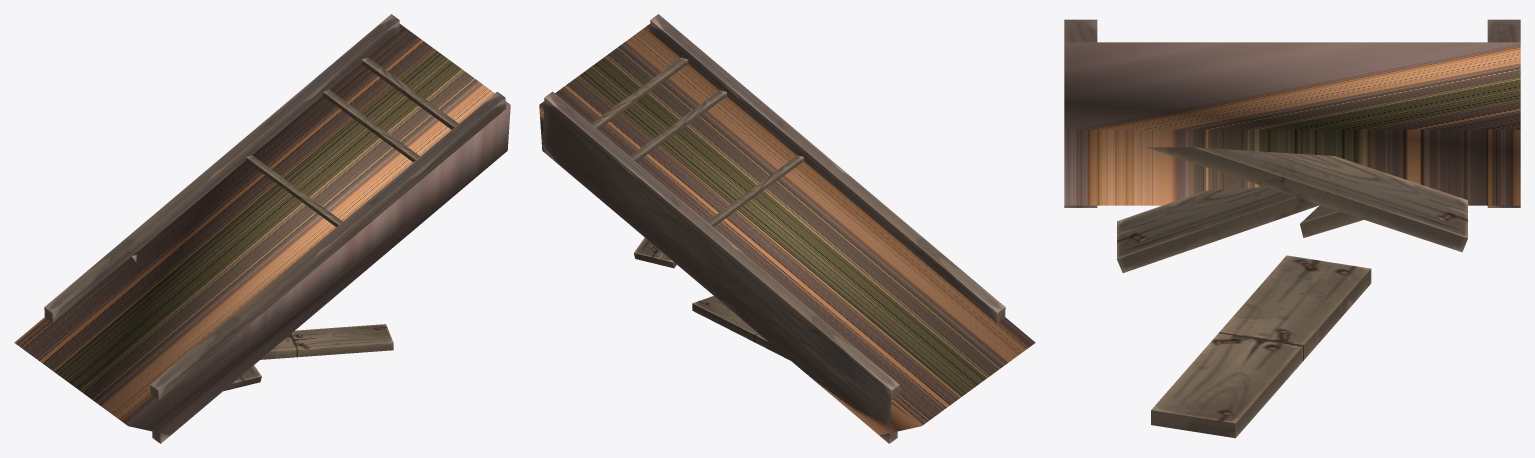
File: fenceWalk_stairs03_B.FBX
3 renders of one model, left to right at view 1: azimuth 30°, elevation 25°; view 2: azimuth 150°, elevation 25°; view 3: azimuth 270°, elevation 25°, orthographic. The views are drawn at different scales.
Parts seen in each view (by area): view 1: fenceWalk_stairs03_B_COL, fenceWalk_stairs03_B; view 2: fenceWalk_stairs03_B_COL, fenceWalk_stairs03_B; view 3: fenceWalk_stairs03_B_COL, fenceWalk_stairs03_B.
Part boxes in pixels (x1,y1,x2,y2): fenceWalk_stairs03_B_COL: (14, 24, 510, 435); fenceWalk_stairs03_B: (44, 14, 505, 443); fenceWalk_stairs03_B_COL: (539, 24, 1035, 435); fenceWalk_stairs03_B: (542, 14, 1005, 443); fenceWalk_stairs03_B_COL: (1064, 42, 1520, 205); fenceWalk_stairs03_B: (1064, 19, 1520, 438).
Bounding box in the file's own units: 269 × 176 × 139.
